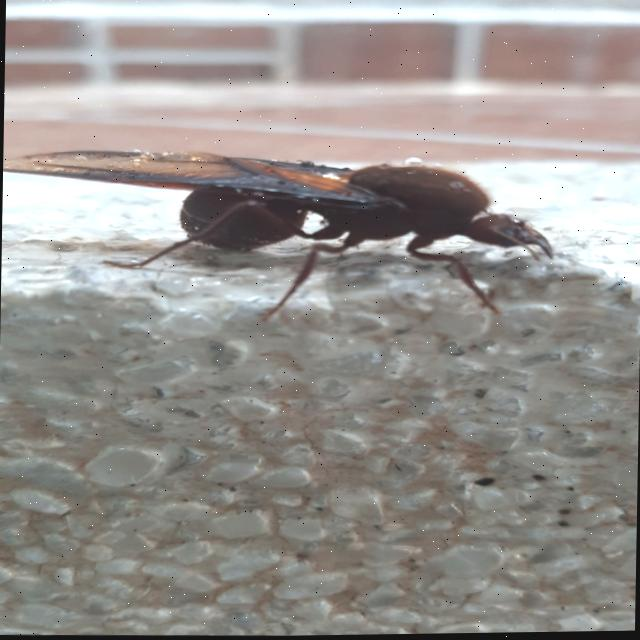Alive-Female-Alate: (0, 142, 555, 330)
